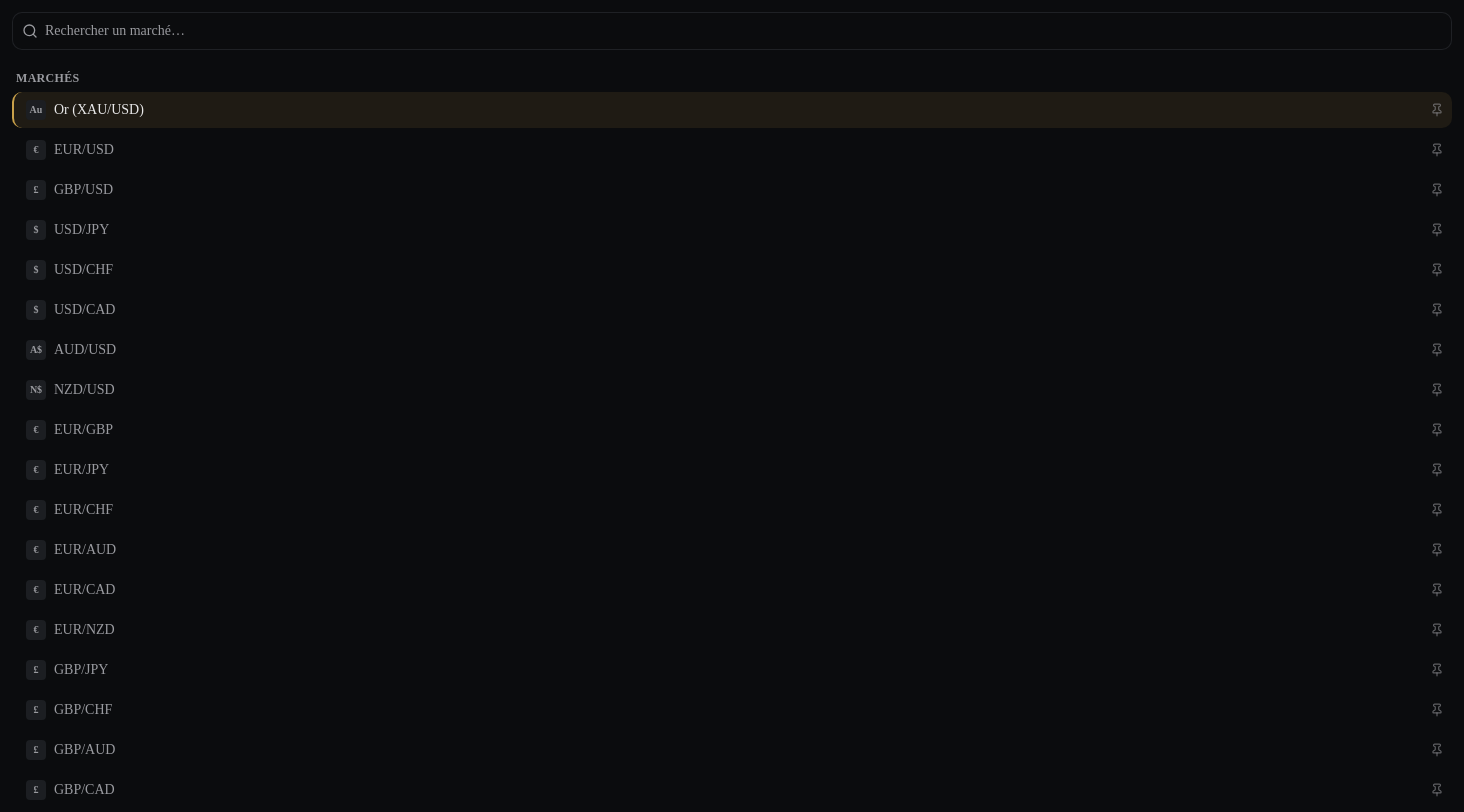
Test: MarketSelector — registry is the single source (panel) › search filters to the matching market only
This screenshot has width=1464, height=812.
Type "euro" into the search field labelled "Rechercher un marché…" at (732, 31), box top-left (12, 12), bottom-right (1452, 50)
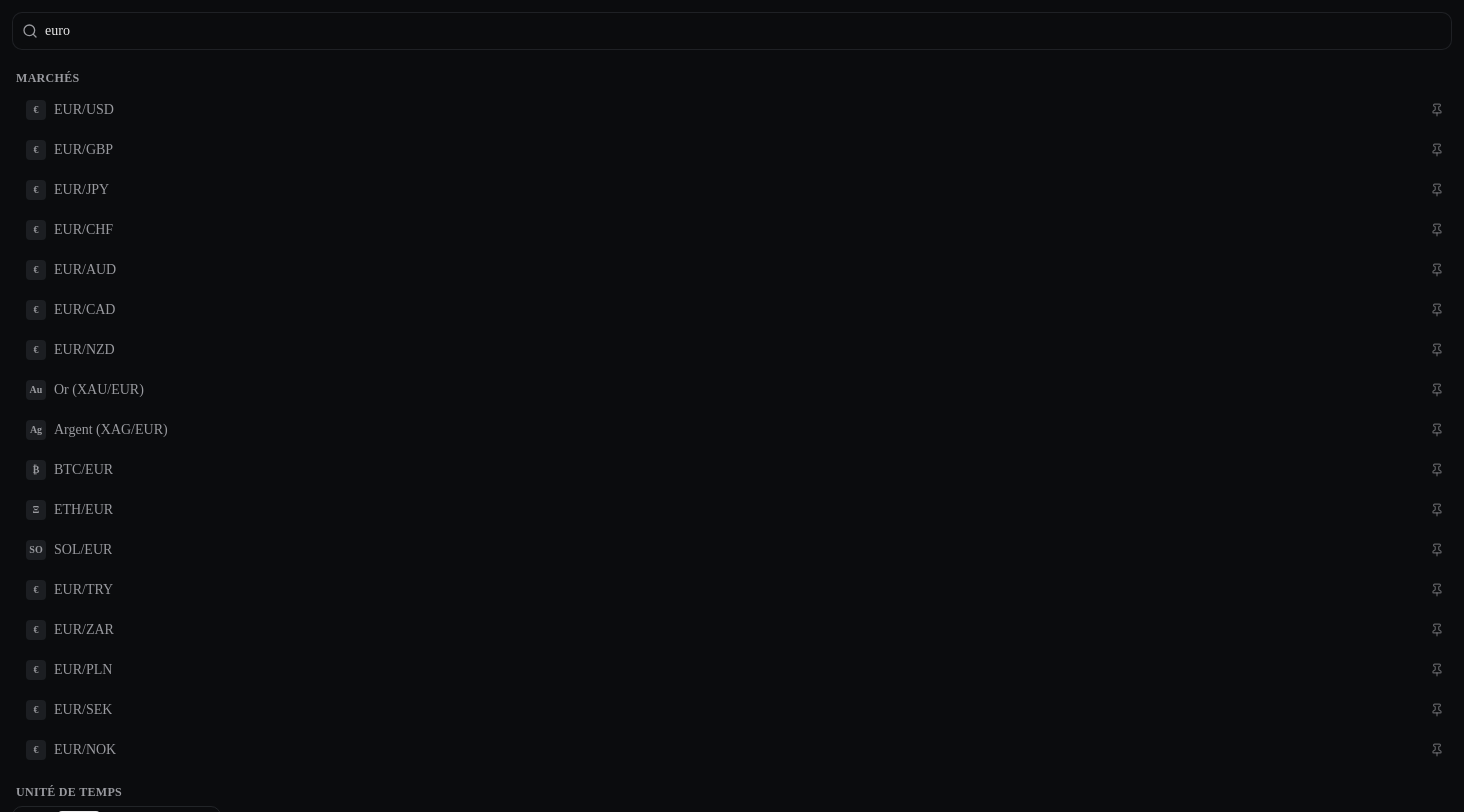
Expected: the text "EUR/USD" is shown, top-left (54, 100), bottom-right (114, 120)
Expected: the button "Or (XAU/USD)" is gone
